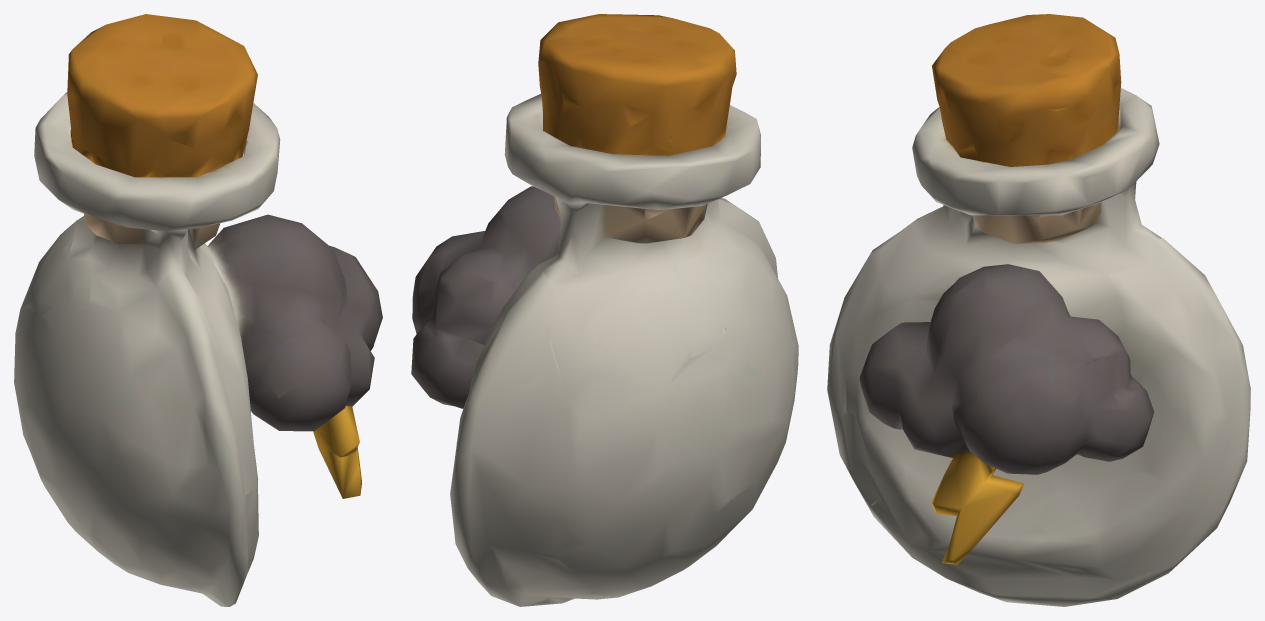
Rendered from toy-bottle.glb.
3 renders of one model, left to right at view 1: azimuth 30°, elevation 25°; view 2: azimuth 150°, elevation 25°; view 3: azimuth 270°, elevation 25°, orthographic. The views are drawn at different scales.
Parts seen in each view (by area): view 1: tripo_node_bc6579d2-8dd1-40d8-82dd-fb705545b74a; view 2: tripo_node_bc6579d2-8dd1-40d8-82dd-fb705545b74a; view 3: tripo_node_bc6579d2-8dd1-40d8-82dd-fb705545b74a.
Part boxes in pixels (x1,y1,x2,y2): tripo_node_bc6579d2-8dd1-40d8-82dd-fb705545b74a: [14, 14, 382, 606]; tripo_node_bc6579d2-8dd1-40d8-82dd-fb705545b74a: [411, 14, 798, 606]; tripo_node_bc6579d2-8dd1-40d8-82dd-fb705545b74a: [827, 14, 1250, 606].
Bounding box in the file's own units: 0.6287 × 1 × 0.7113.
Materials: 1 (1 with a texture image).
